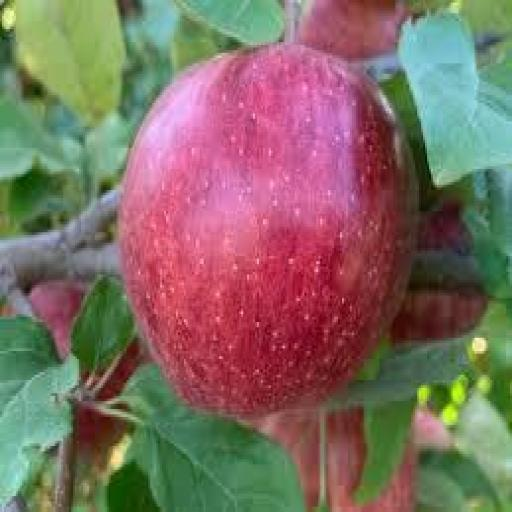apple: (121, 45, 417, 416)
